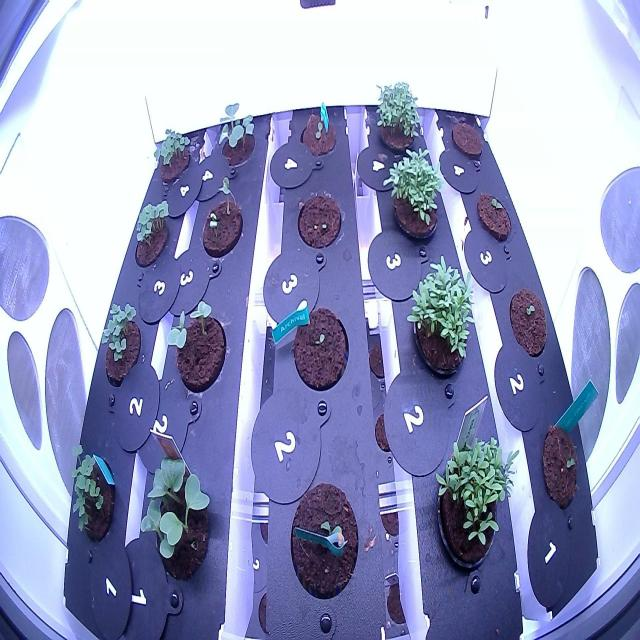germination: (284, 474, 362, 600), (163, 294, 230, 401), (290, 301, 351, 396), (65, 440, 116, 550), (97, 297, 145, 391), (198, 174, 246, 265), (539, 418, 580, 516), (213, 95, 261, 174), (506, 278, 549, 365), (291, 186, 344, 255), (129, 195, 172, 273), (149, 117, 193, 189), (294, 104, 338, 162), (473, 188, 513, 246)
pod: (448, 116, 486, 162)
